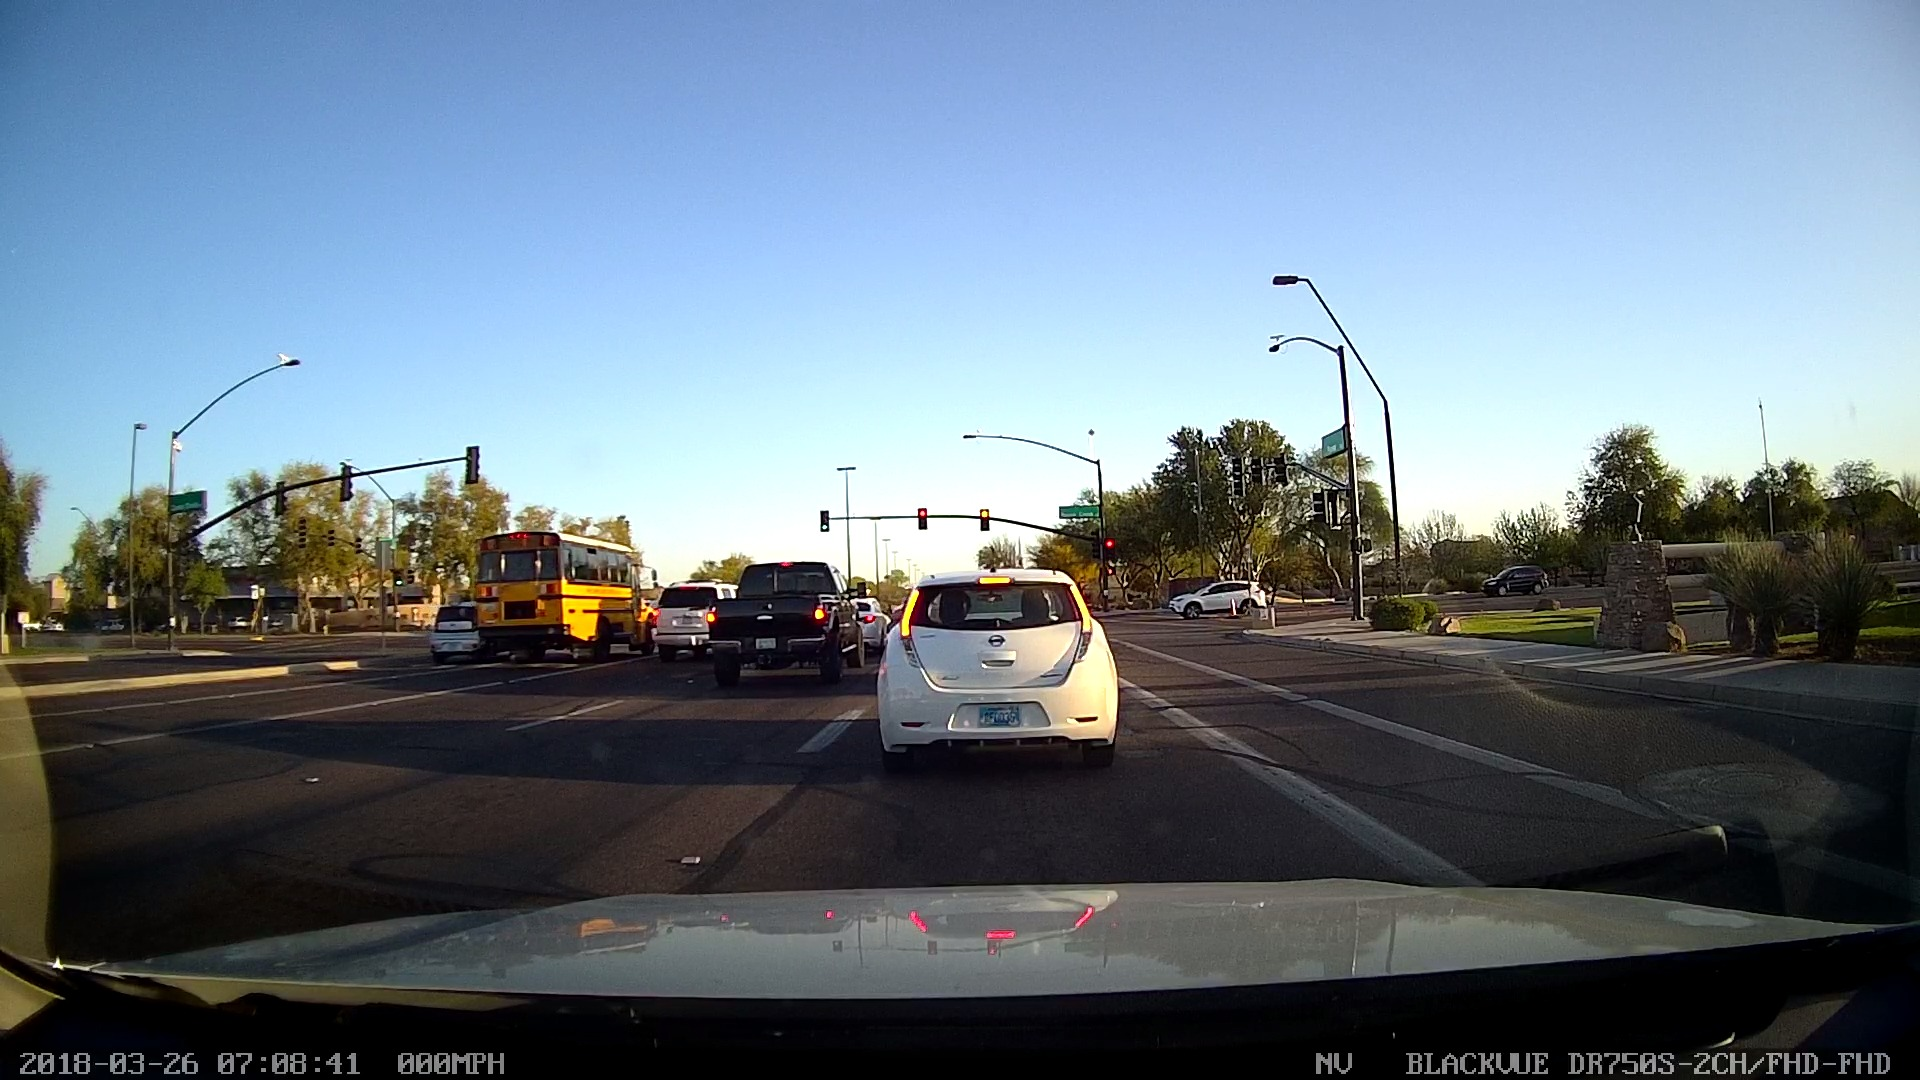vehicle: (861, 563, 1131, 775), (459, 502, 665, 684), (686, 537, 884, 698), (405, 588, 510, 671), (1166, 572, 1276, 622), (957, 692, 1047, 740), (1473, 553, 1555, 603)
